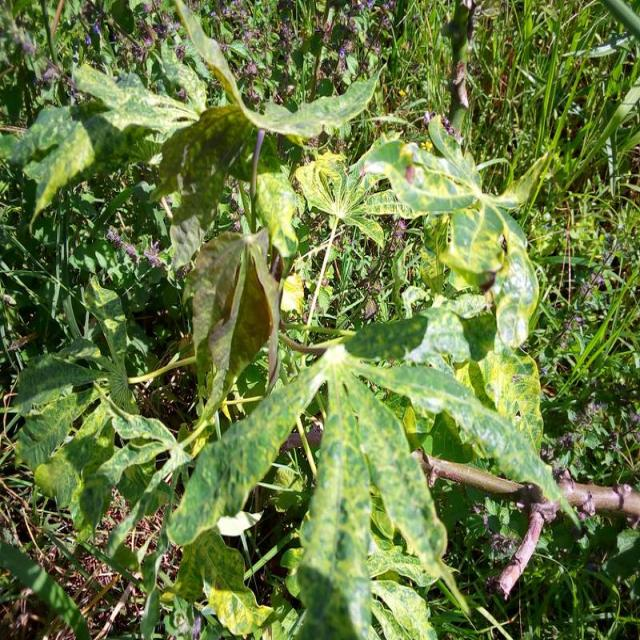cassava leaf: (6, 2, 578, 637), (165, 305, 570, 637)
